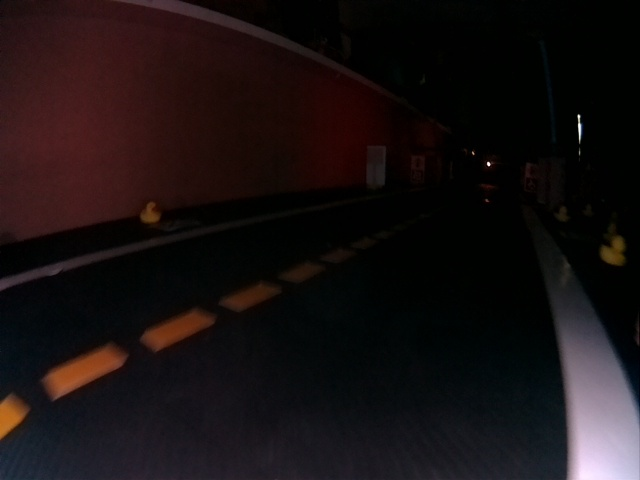Duckie: (599, 237, 626, 266), (142, 201, 161, 223)
